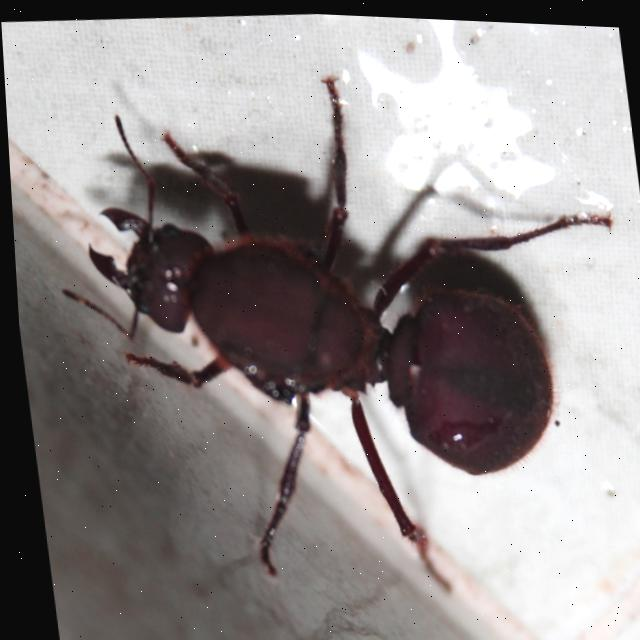Alive-Female-Dealate: (33, 45, 640, 621)
